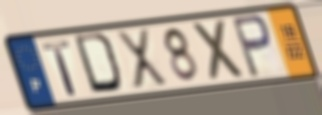8: (162, 26, 201, 85)
D: (71, 30, 128, 96)
P: (229, 12, 274, 80)
T: (39, 38, 81, 98)
X: (189, 17, 249, 85), (114, 26, 171, 90)
